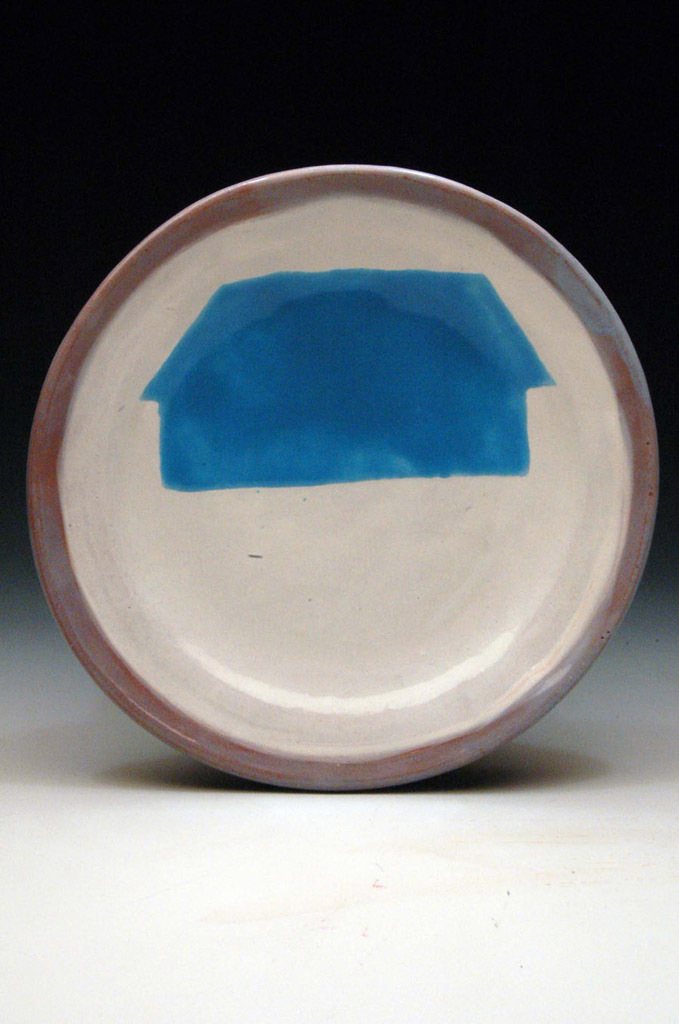plate: (25, 163, 658, 792)
